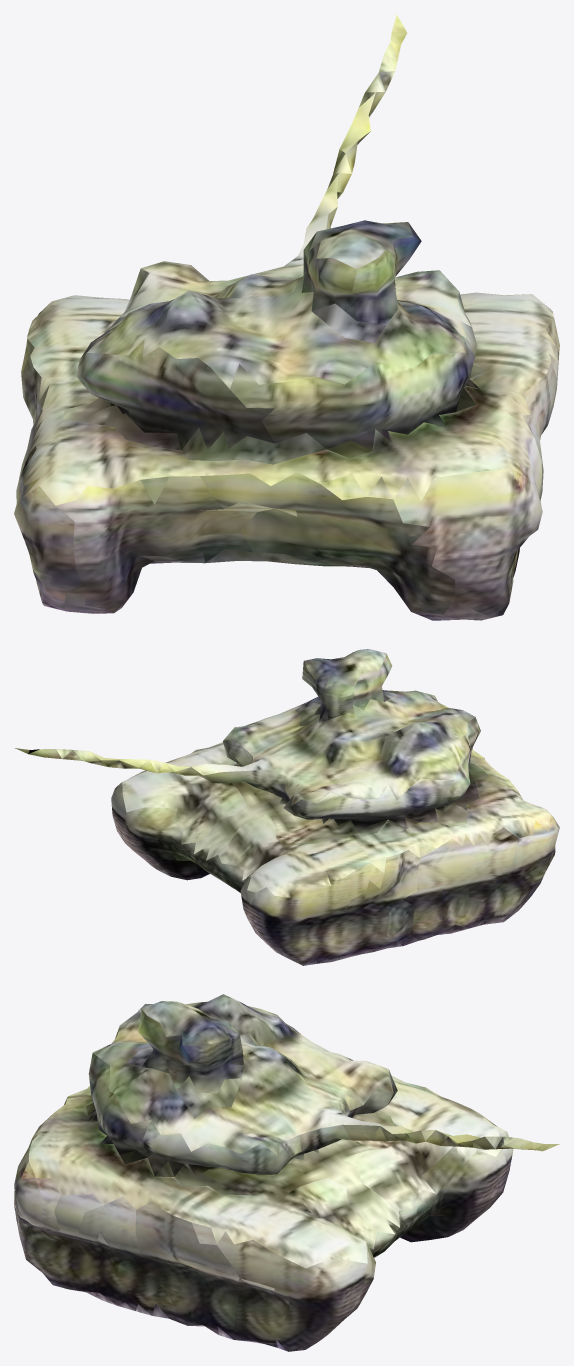
Rendered from TANK_00002_.glb.
The picture shows the model from 3 angles, top to bottom: view 1: azimuth 30°, elevation 25°; view 2: azimuth 150°, elevation 25°; view 3: azimuth 270°, elevation 25°; orthographic projection. The views are drawn at different scales.
Parts seen in each view (by area): view 1: world; view 2: world; view 3: world.
Part boxes in pixels (x1=…): world: x1=14, y1=14, x2=559, y2=620; world: x1=15, y1=649, x2=559, y2=965; world: x1=14, y1=994, x2=559, y2=1351.
Size of the model in its own units: 0.8919 by 0.4817 by 0.9042.
Materials: 1 (1 with a texture image).
